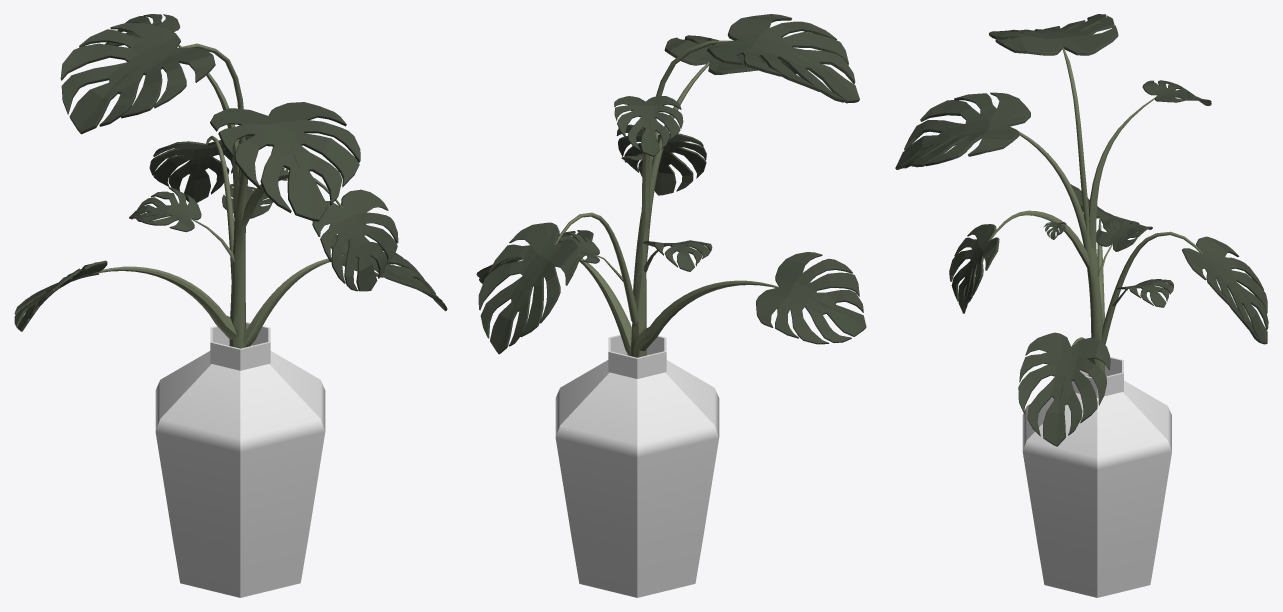
Rendered from Asset_plante_A.fbx.
The picture shows the model from 3 angles, left to right: view 1: azimuth 30°, elevation 25°; view 2: azimuth 150°, elevation 25°; view 3: azimuth 270°, elevation 25°; orthographic projection. The views are drawn at different scales.
Visible parts, largest first — view 1: A_vase2; view 2: A_vase2; view 3: A_vase2.
Part boxes in pixels (x1,y1,x2,y2): A_vase2: [14, 14, 447, 597]; A_vase2: [476, 14, 866, 597]; A_vase2: [895, 14, 1268, 597].
Bounding box in the file's own units: 114 × 150 × 102.
